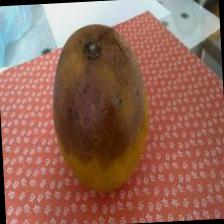Orange Rotten: (42, 9, 165, 211)
